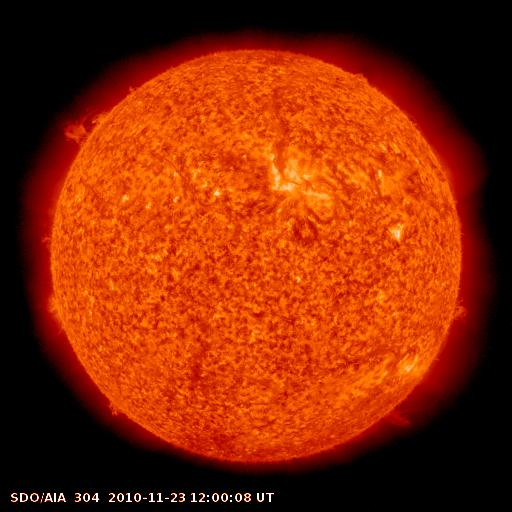prominence: (379, 298, 475, 438), (55, 94, 123, 146), (36, 289, 76, 344), (97, 390, 131, 428), (36, 207, 58, 257)
